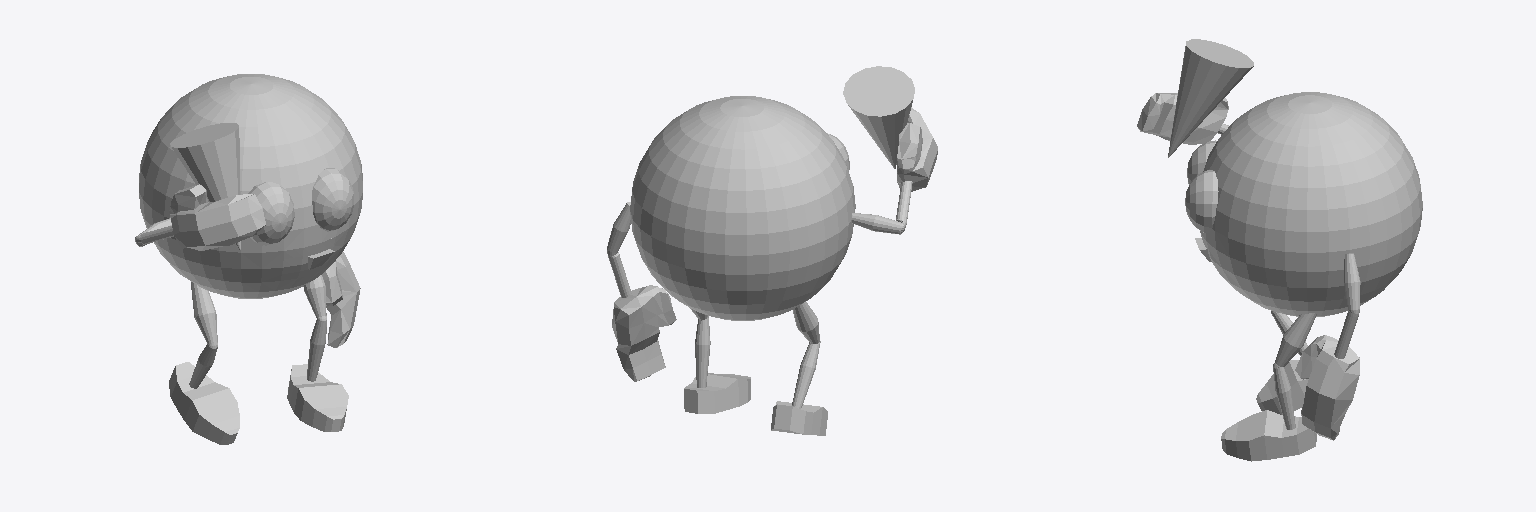
The model's file is runToStand_000060.obj.
3 renders of one model, left to right at view 1: azimuth 30°, elevation 25°; view 2: azimuth 150°, elevation 25°; view 3: azimuth 270°, elevation 25°, orthographic.
Visible parts, largest first — view 1: Rusko_Sphere; view 2: Rusko_Sphere; view 3: Rusko_Sphere.
Part boxes in pixels (bbox=[...]): Rusko_Sphere: bbox=[135, 74, 362, 444]; Rusko_Sphere: bbox=[607, 66, 937, 435]; Rusko_Sphere: bbox=[1137, 39, 1422, 461].
Size of the model in its own units: 5.26 by 6.77 by 5.07.